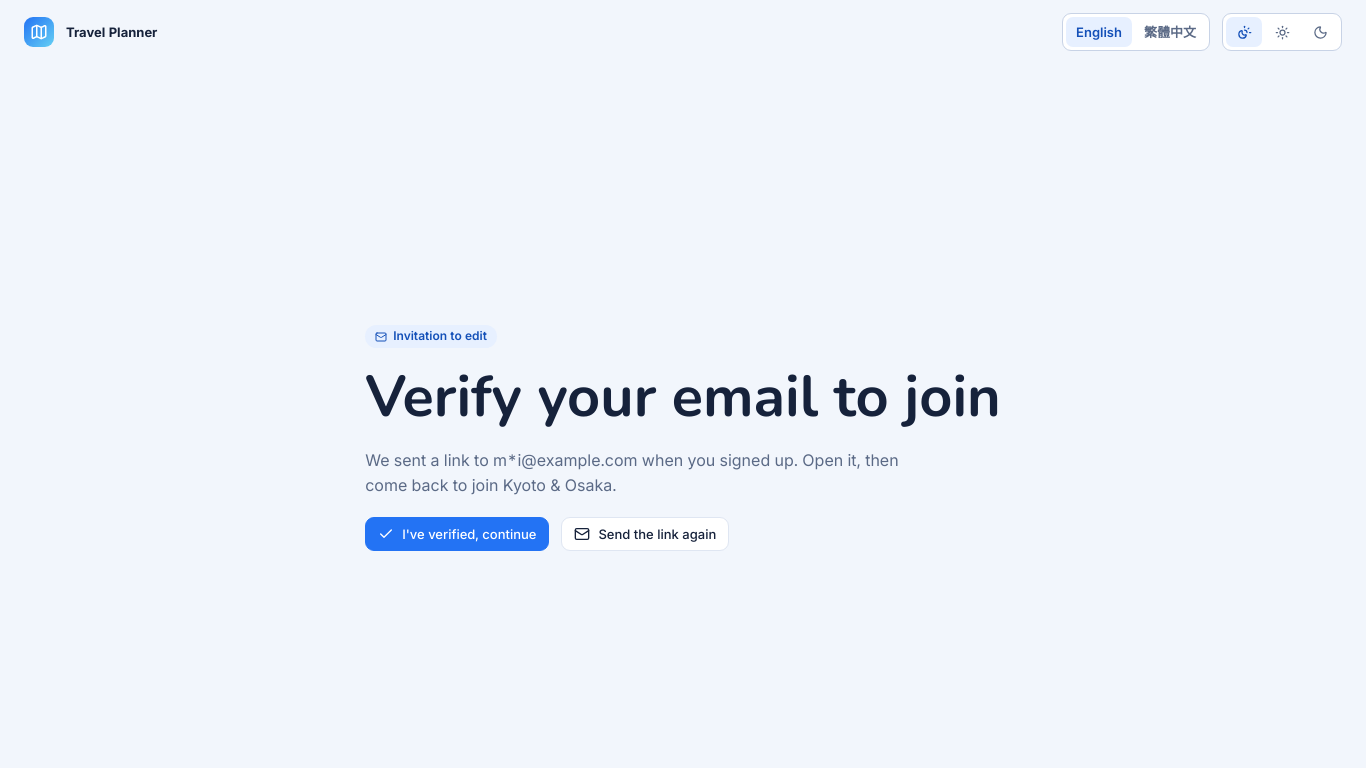
an invitation link, logged in › says when the verification email was sent too many times today
Click the button "Send the link again": (645,534) [562,517,729,551]
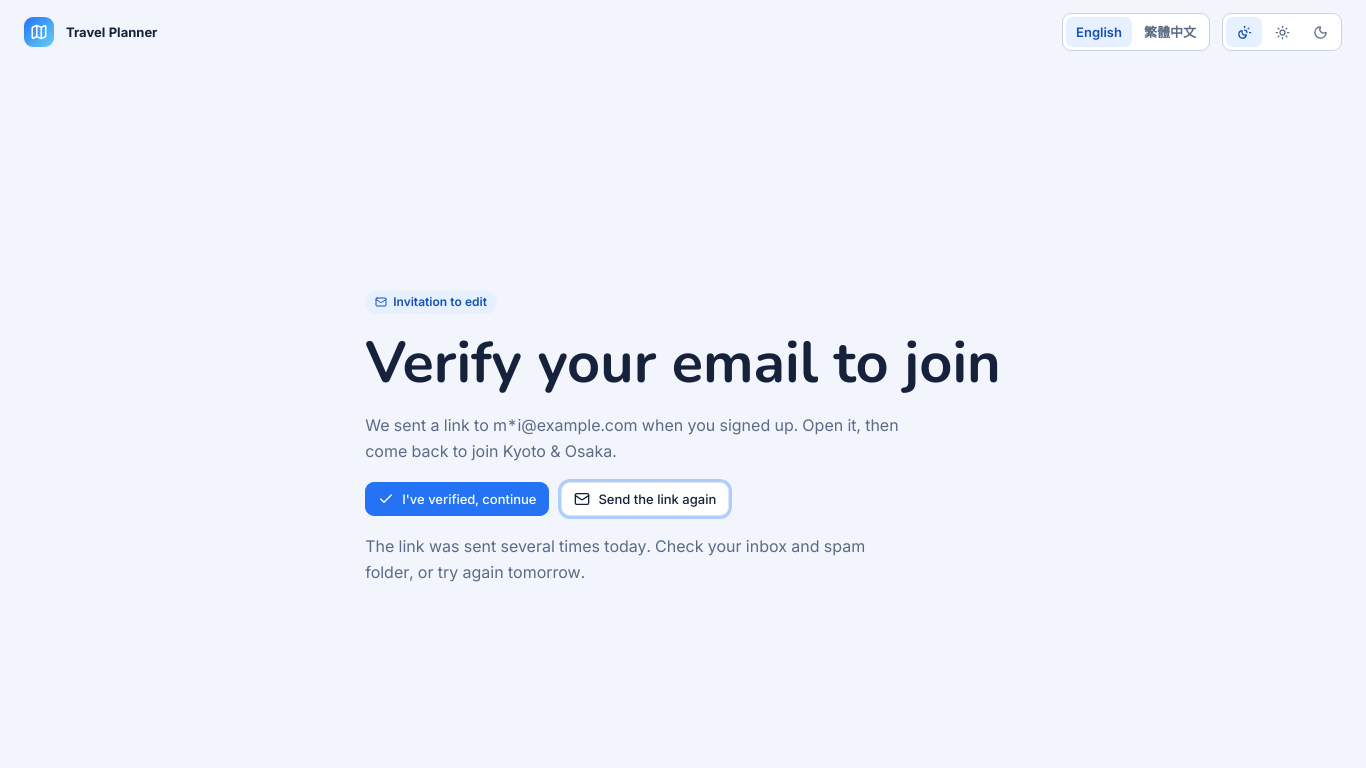
Check: the message shows "The link was sent several times today. Check your inbox and spam folder, or try again tomorrow.", box [365,536,865,582]
